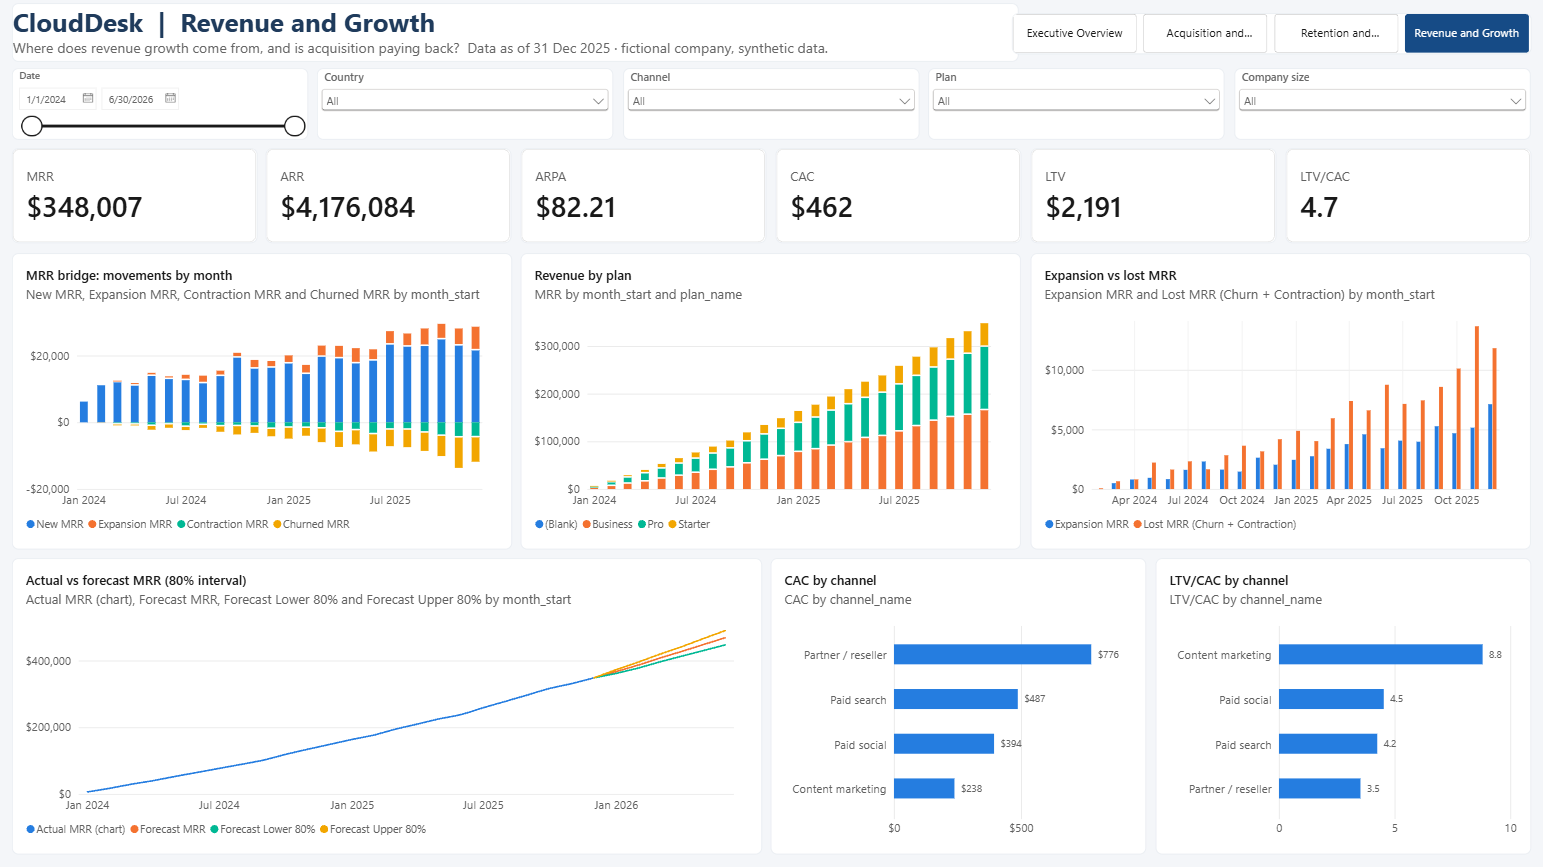

The dashboard page shown, as its layout file describes it:
{"tool":"powerbi","page":{"name":"Revenue and Growth","canvas":[1920,1080],"ordinal":3},"visuals":[{"type":"textbox","box":[24,8,1240,72],"z":0},{"type":"pageNavigator","box":[1256,20,640,50],"z":1000},{"type":"slicer","fields":{"Values":["dim_date.date"]},"box":[24,88,365,88],"z":2000},{"type":"slicer","fields":{"Values":["dim_accounts.country"]},"box":[401,88,365,88],"z":3000},{"type":"slicer","fields":{"Values":["dim_channel.channel_name"]},"box":[778,88,365,88],"z":4000},{"type":"slicer","fields":{"Values":["dim_plans.plan_name"]},"box":[1154,88,365,88],"z":5000},{"type":"slicer","fields":{"Values":["dim_accounts.company_size"]},"box":[1531,88,365,88],"z":6000},{"type":"cardVisual","fields":{"Data":["_Measures.MRR"]},"box":[24,186,302,117],"z":7000},{"type":"cardVisual","fields":{"Data":["_Measures.ARR"]},"box":[338,186,302,117],"z":8000},{"type":"cardVisual","fields":{"Data":["_Measures.ARPA"]},"box":[652,186,302,117],"z":9000},{"type":"cardVisual","fields":{"Data":["_Measures.CAC"]},"box":[966,186,302,117],"z":10000},{"type":"cardVisual","fields":{"Data":["_Measures.LTV"]},"box":[1280,186,302,117],"z":11000},{"type":"cardVisual","fields":{"Data":["_Measures.LTV/CAC"]},"box":[1594,186,302,117],"z":12000},{"type":"columnChart","title":"MRR bridge: movements by month","fields":{"Category":["dim_date.month_start"],"Y":["_Measures.New MRR","_Measures.Expansion MRR","_Measures.Contraction MRR","_Measures.Churned MRR"]},"box":[24,315,616,365],"z":13000},{"type":"columnChart","title":"Revenue by plan","fields":{"Category":["dim_date.month_start"],"Series":["dim_plans.plan_name"],"Y":["_Measures.MRR"]},"box":[652,315,616,365],"z":14000},{"type":"clusteredColumnChart","title":"Expansion vs lost MRR","fields":{"Category":["dim_date.month_start"],"Y":["_Measures.Expansion MRR","_Measures.Lost MRR (Churn + Contraction)"]},"box":[1280,315,616,365],"z":15000},{"type":"lineChart","title":"Actual vs forecast MRR (80% interval)","fields":{"Category":["dim_date.month_start"],"Y":["_Measures.Actual MRR (chart)","_Measures.Forecast MRR","_Measures.Forecast Lower 80%","_Measures.Forecast Upper 80%"]},"box":[24,692,924,365],"z":16000},{"type":"clusteredBarChart","title":"CAC by channel","fields":{"Category":["dim_channel.channel_name"],"Y":["_Measures.CAC"]},"box":[960,692,462,365],"z":17000},{"type":"clusteredBarChart","title":"LTV/CAC by channel","fields":{"Category":["dim_channel.channel_name"],"Y":["_Measures.LTV/CAC"]},"box":[1434,692,462,365],"z":18000}]}

Visuals, with their boxes in screenshot pixels (x1, y1, x2, y2), scaled from the page's 1920x1080 canvas onto the 1543x867 screenshot:
textbox: x1=19, y1=6, x2=1016, y2=64
pageNavigator: x1=1009, y1=16, x2=1524, y2=56
slicer - dim_date.date: x1=19, y1=71, x2=313, y2=141
slicer - dim_accounts.country: x1=322, y1=71, x2=616, y2=141
slicer - dim_channel.channel_name: x1=625, y1=71, x2=919, y2=141
slicer - dim_plans.plan_name: x1=927, y1=71, x2=1221, y2=141
slicer - dim_accounts.company_size: x1=1230, y1=71, x2=1524, y2=141
cardVisual - _Measures.MRR: x1=19, y1=149, x2=262, y2=243
cardVisual - _Measures.ARR: x1=272, y1=149, x2=514, y2=243
cardVisual - _Measures.ARPA: x1=524, y1=149, x2=767, y2=243
cardVisual - _Measures.CAC: x1=776, y1=149, x2=1019, y2=243
cardVisual - _Measures.LTV: x1=1029, y1=149, x2=1271, y2=243
cardVisual - _Measures.LTV/CAC: x1=1281, y1=149, x2=1524, y2=243
"MRR bridge: movements by month" columnChart: x1=19, y1=253, x2=514, y2=546
"Revenue by plan" columnChart: x1=524, y1=253, x2=1019, y2=546
"Expansion vs lost MRR" clusteredColumnChart: x1=1029, y1=253, x2=1524, y2=546
"Actual vs forecast MRR (80% interval)" lineChart: x1=19, y1=556, x2=762, y2=849
"CAC by channel" clusteredBarChart: x1=772, y1=556, x2=1143, y2=849
"LTV/CAC by channel" clusteredBarChart: x1=1152, y1=556, x2=1524, y2=849
